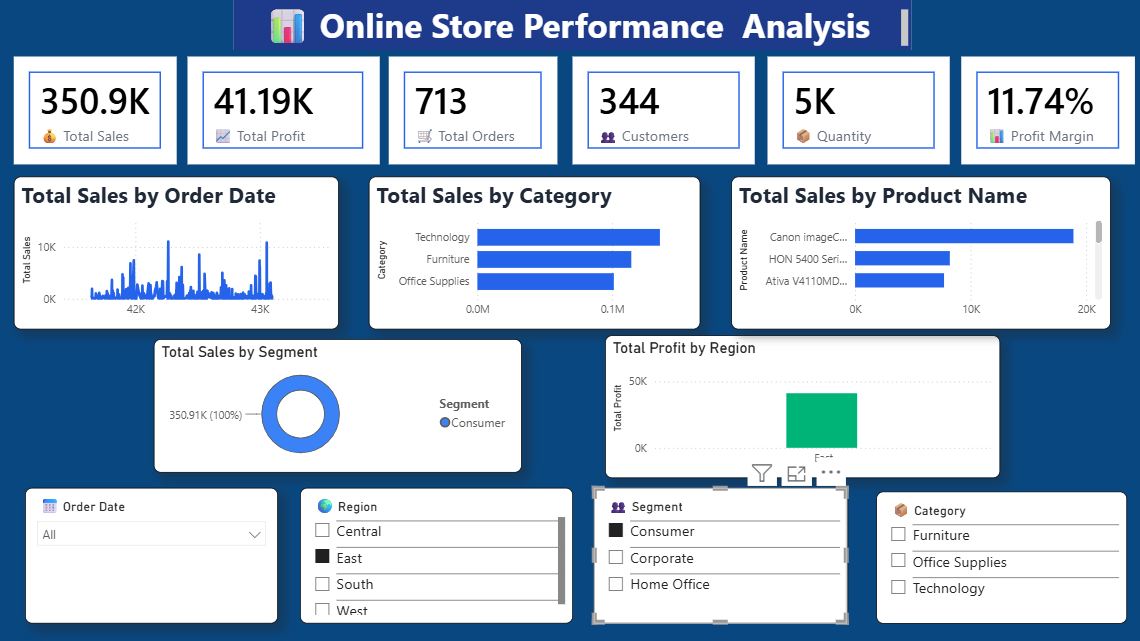

What the dashboard file says about the page in this screenshot:
{"tool":"powerbi","page":{"name":"Dashboard","canvas":[1280,720],"ordinal":0},"visuals":[{"type":"cardVisual","fields":{"Data":["Fact_Sales.Total Sales"]},"box":[15.1,64.4,182.1,120.5],"z":0},{"type":"lineChart","fields":{"Category":["Fact_Sales.Order Date"],"Y":["Fact_Sales.Total Sales"]},"box":[15.1,198.5,364.2,171.2],"z":1000},{"type":"clusteredBarChart","fields":{"Category":["Fact_Sales.Category"],"Y":["Fact_Sales.Total Sales"]},"box":[412.2,198.5,371.1,171.2],"z":2000},{"type":"clusteredColumnChart","fields":{"Category":["Fact_Sales.Region"],"Y":["Fact_Sales.Total Profit"]},"box":[677.8,376.6,442.3,160.2],"z":3000},{"type":"donutChart","fields":{"Category":["Fact_Sales.Segment"],"Y":["Fact_Sales.Total Sales"]},"box":[172.5,380.7,412.2,149.3],"z":4000},{"type":"clusteredBarChart","fields":{"Category":["Fact_Sales.Product Name"],"Y":["Fact_Sales.Total Sales"]},"box":[818.8,198.5,424.5,171.2],"z":5000},{"type":"slicer","fields":{"Values":["Fact_Sales.Region"]},"box":[335.5,547.7,305.3,152],"z":6000},{"type":"slicer","fields":{"Values":["Fact_Sales.Category"]},"box":[980.4,551.8,280.7,147.9],"z":7000},{"type":"slicer","fields":{"Values":["Fact_Sales.Segment"]},"box":[664.1,547.7,284.8,152],"z":8000},{"type":"cardVisual","fields":{"Data":["Fact_Sales.Total Profit"]},"box":[209.5,64.4,215,120.5],"z":9000},{"type":"cardVisual","fields":{"Data":["Fact_Sales.Total Orders"]},"box":[435.4,64.4,189,120.5],"z":10000},{"type":"cardVisual","fields":{"Data":["Fact_Sales.Total Customers"]},"box":[640.8,64.4,204,120.5],"z":11000},{"type":"cardVisual","fields":{"Data":["Fact_Sales.Total Quantity"]},"box":[858.5,64.4,204,120.5],"z":12000},{"type":"cardVisual","fields":{"Data":["Fact_Sales.Profit Margin %"]},"box":[1076.3,64.4,194.4,120.5],"z":13000},{"type":"slicer","fields":{"Values":["Fact_Sales.Order Date"]},"box":[27.4,547.7,283.4,152],"z":14000},{"type":"textbox","box":[261.4,0,758.6,57.1],"z":15000},{"type":"shape","box":[261.5,0,758.6,57.5],"z":16000},{"type":"textbox","box":[258,2.7,764.1,54.8],"z":18000}]}

Visuals, with their boxes in screenshot pixels (x1, y1, x2, y2), scaled from the page's 1280x720 canvas onto the 1140x641 screenshot:
cardVisual - Fact_Sales.Total Sales: 13 57 176 165
lineChart - Fact_Sales.Order Date x Fact_Sales.Total Sales: 13 177 338 329
clusteredBarChart - Fact_Sales.Category x Fact_Sales.Total Sales: 367 177 698 329
clusteredColumnChart - Fact_Sales.Region x Fact_Sales.Total Profit: 604 335 998 478
donutChart - Fact_Sales.Segment x Fact_Sales.Total Sales: 154 339 521 472
clusteredBarChart - Fact_Sales.Product Name x Fact_Sales.Total Sales: 729 177 1107 329
slicer - Fact_Sales.Region: 299 488 571 623
slicer - Fact_Sales.Category: 873 491 1123 623
slicer - Fact_Sales.Segment: 591 488 845 623
cardVisual - Fact_Sales.Total Profit: 187 57 378 165
cardVisual - Fact_Sales.Total Orders: 388 57 556 165
cardVisual - Fact_Sales.Total Customers: 571 57 752 165
cardVisual - Fact_Sales.Total Quantity: 765 57 946 165
cardVisual - Fact_Sales.Profit Margin %: 959 57 1132 165
slicer - Fact_Sales.Order Date: 24 488 277 623
textbox: 233 0 908 51
shape: 233 0 909 51
textbox: 230 2 910 51
